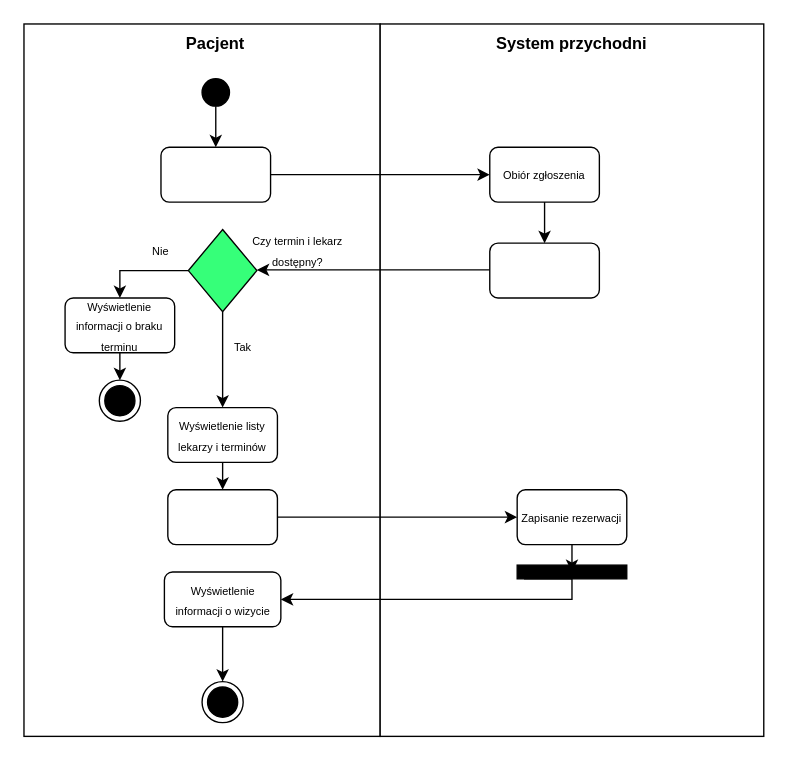
Image size: 788x760. Some labels were removed from this diagram. The shapes that lost their labels are listed below. From the top down, each one's centre as x and y in pixels, then its label:
At [215,174]: "Uruchomienie procesu rezerwacji wizyty".
At [543,270]: "Sprawdzenie dostępnych terminów i lekarzy".
At [221,516]: "Wybór lekarza i terminu".
